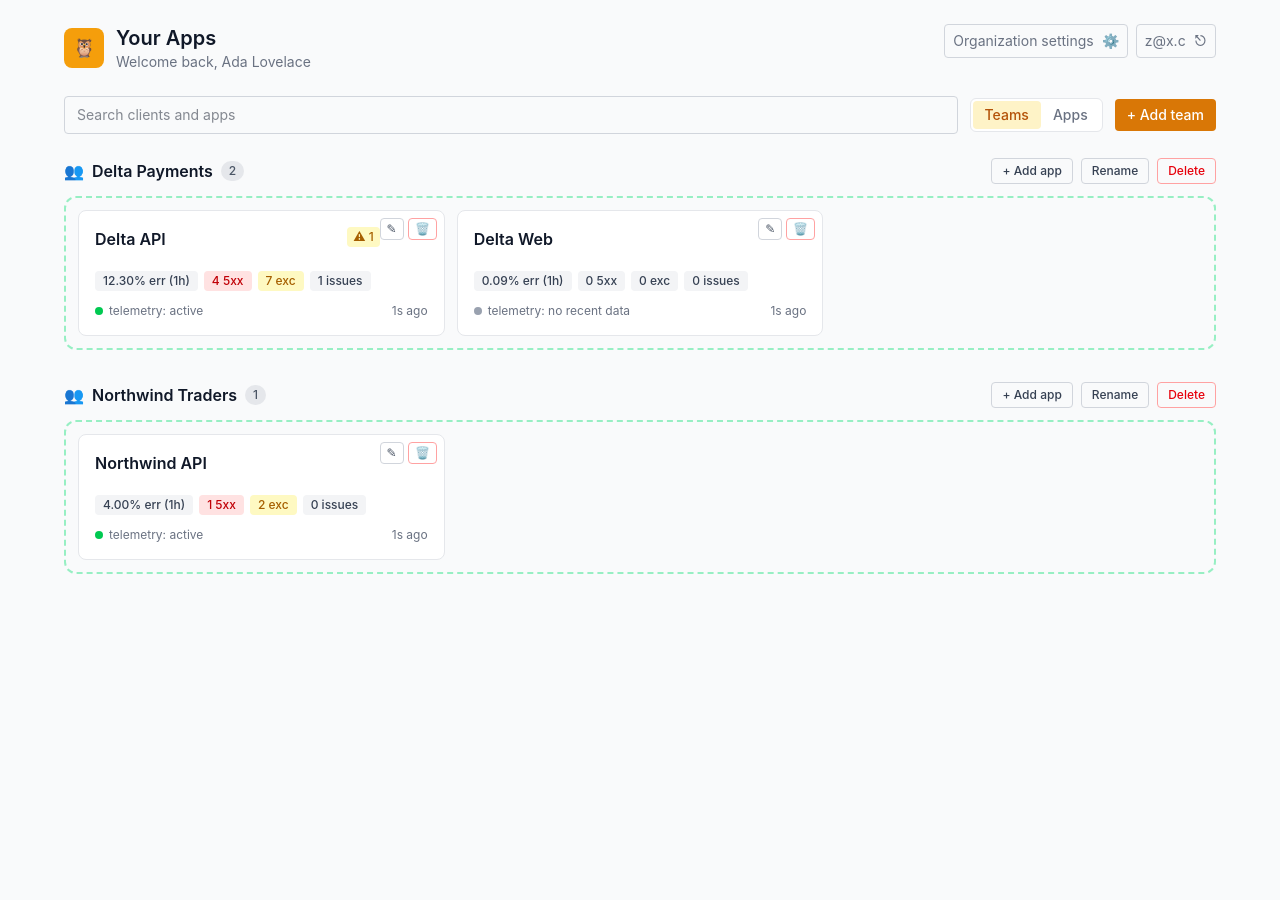
Test: OrgDashboard › no-org-context defensive guards › shows an error instead of silently doing nothing when Add team is submitted with no org context
Click the button with test id "add-team" at (1165, 115), box top-left (1115, 99), bottom-right (1216, 131)
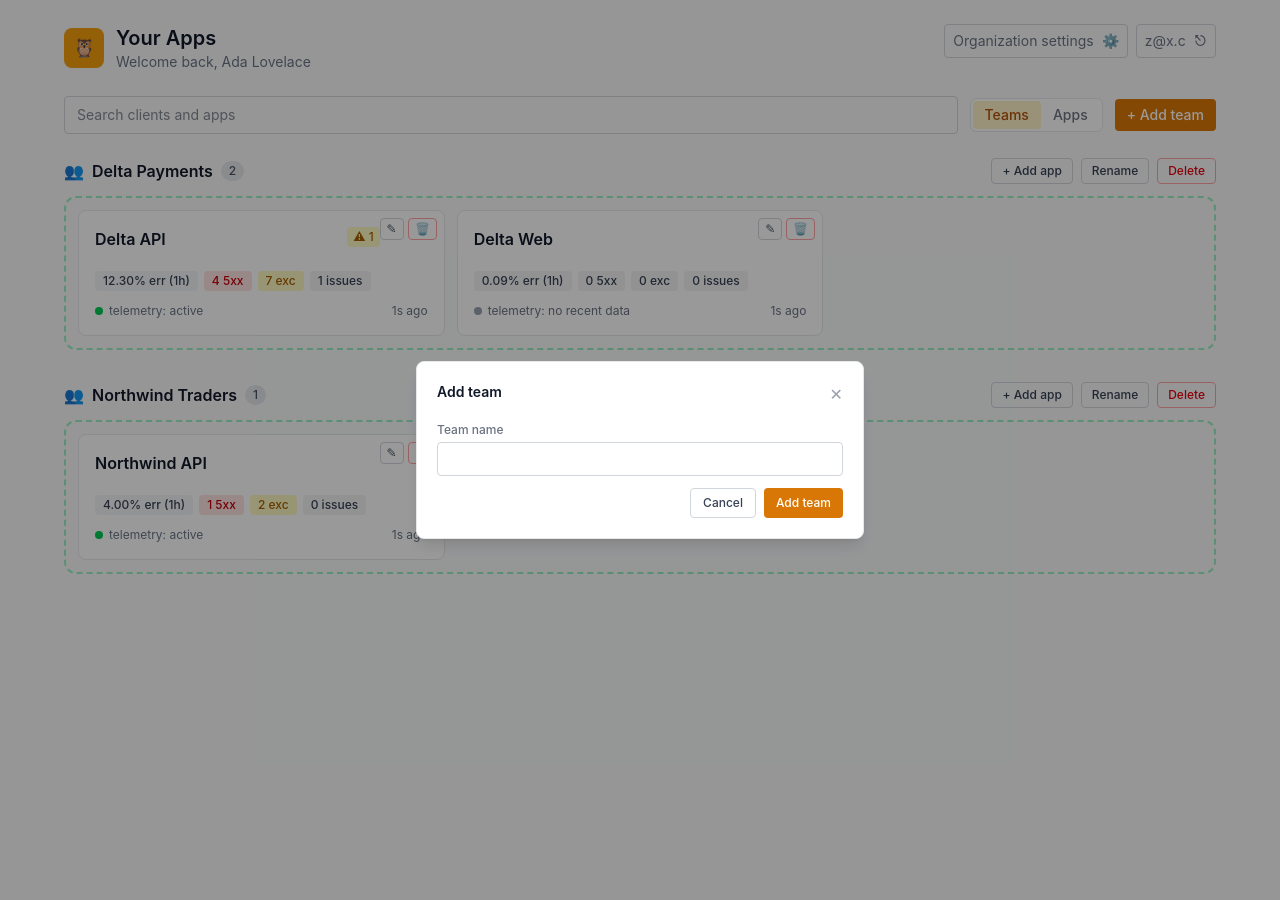
Type "New Team" into the field with test id "team-modal-name" at (640, 459), box top-left (437, 442), bottom-right (843, 476)
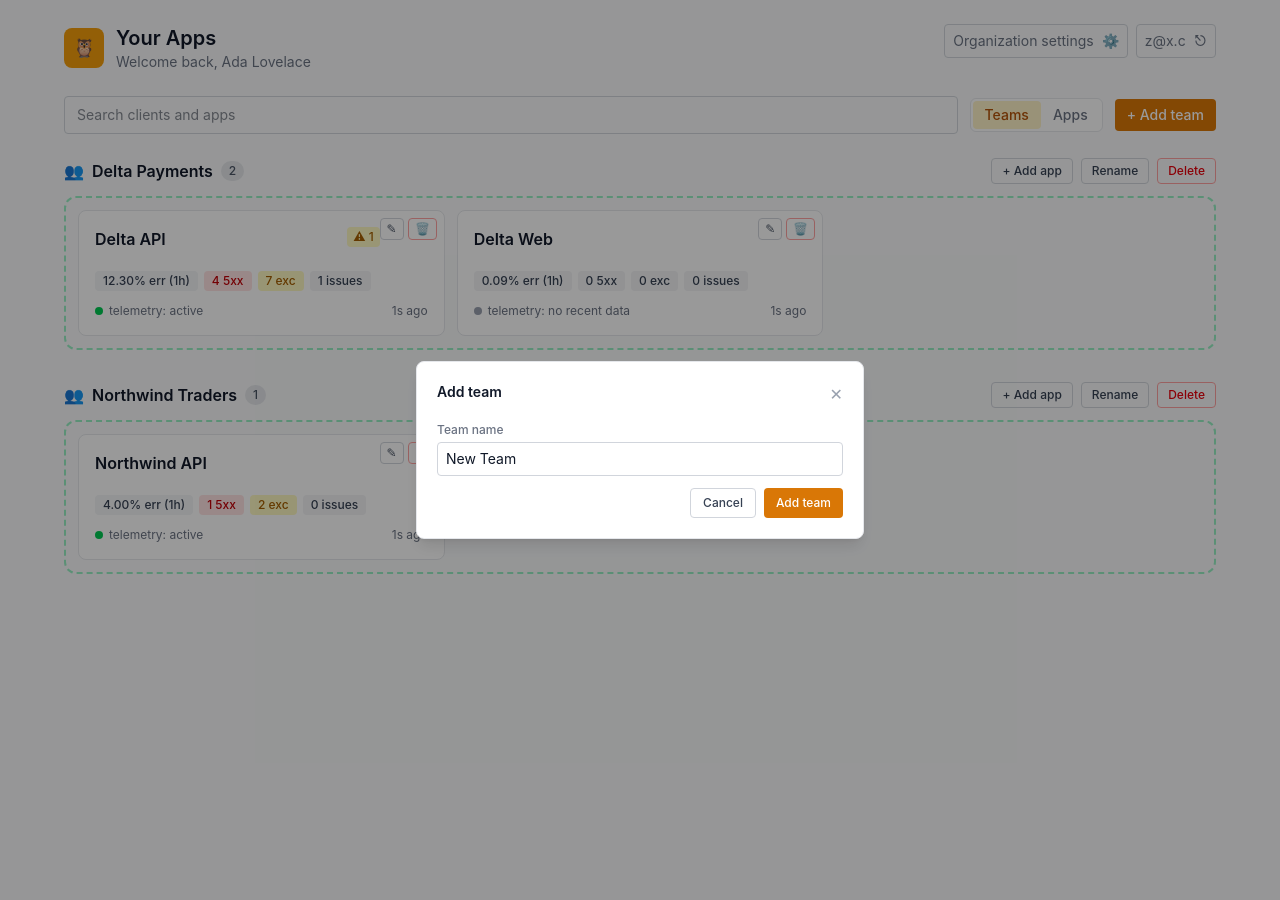
Click the button with test id "team-modal-submit" at (803, 503), box top-left (764, 488), bottom-right (843, 518)
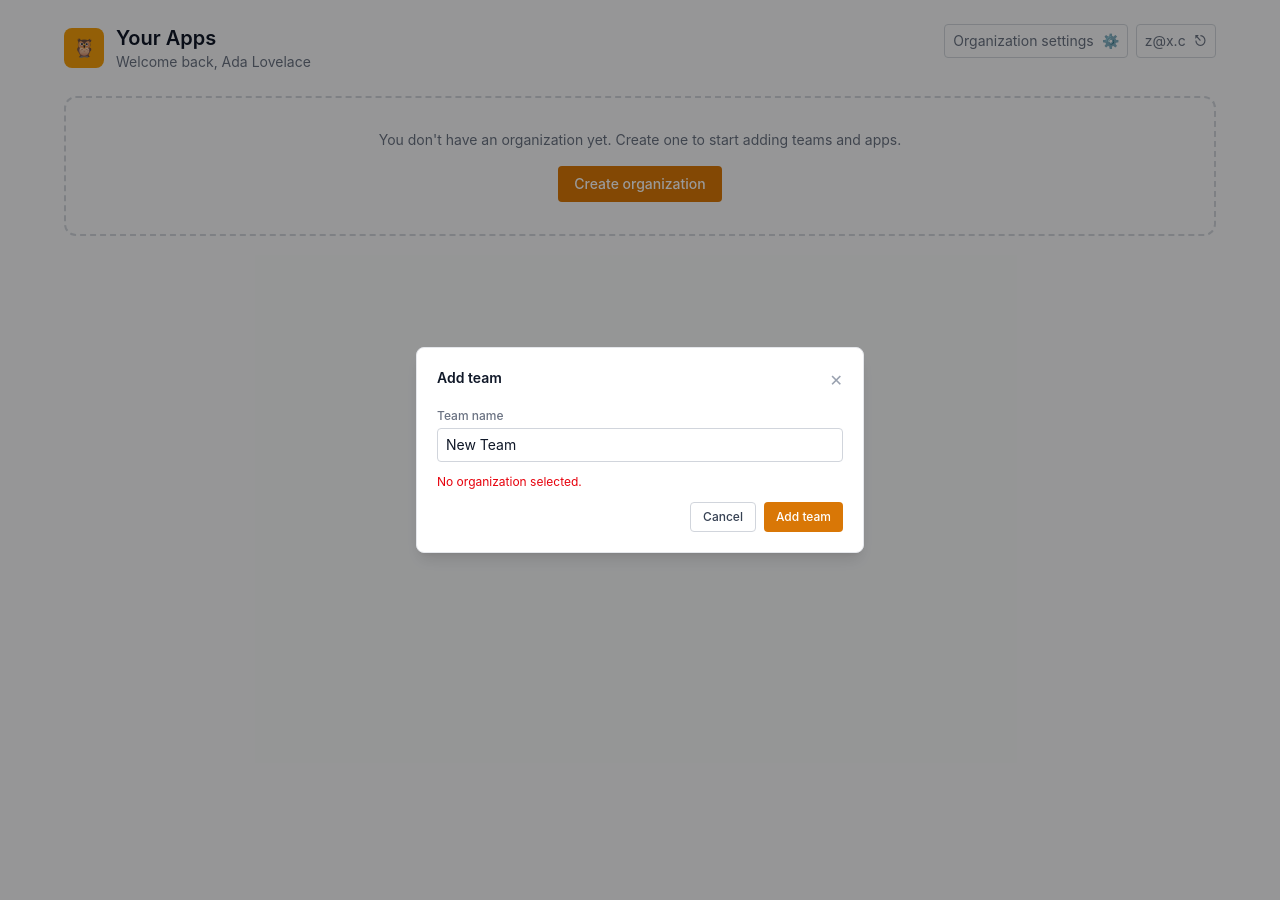
Now the text "No organization selected." is shown, box top-left (437, 474), bottom-right (582, 489)
